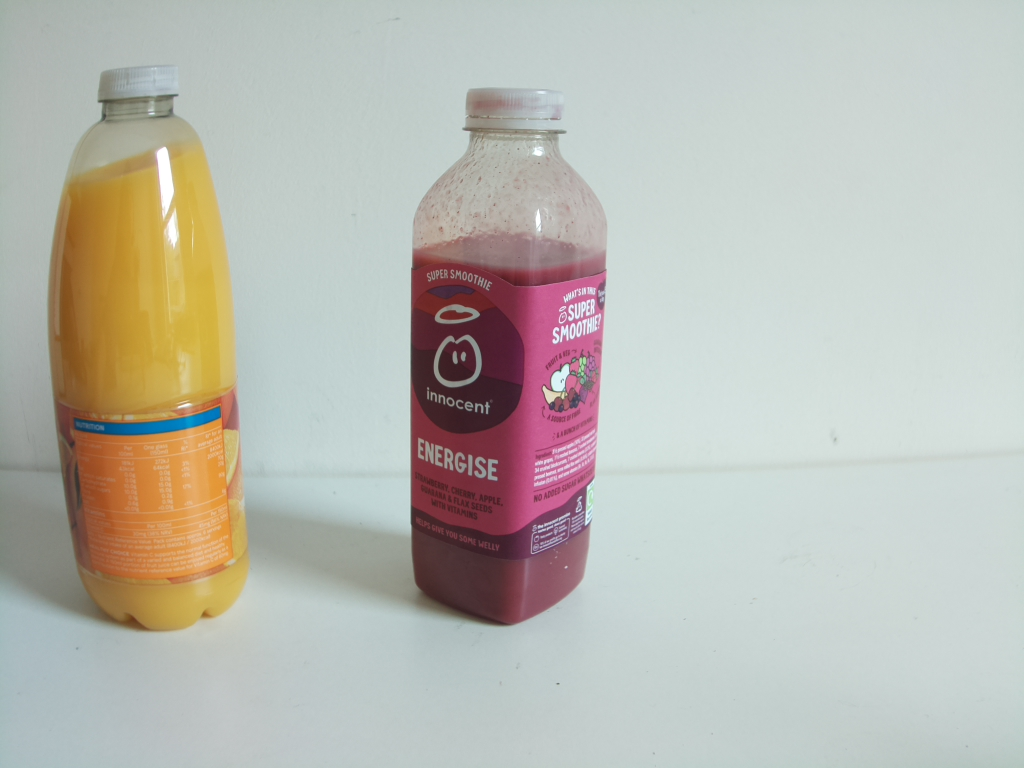juice: (42, 52, 256, 635), (403, 82, 601, 624)
